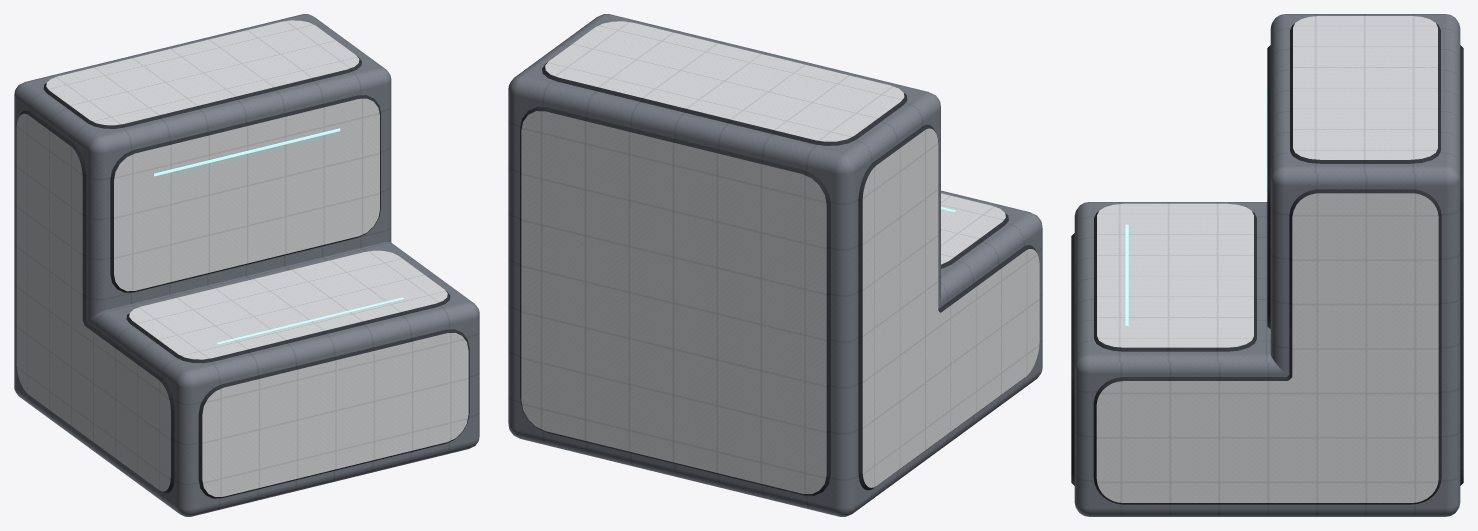
The model's file is R4B_Step.glb.
3 views of the same model, side by side, from view 1: azimuth 30°, elevation 25°; view 2: azimuth 150°, elevation 25°; view 3: azimuth 270°, elevation 25° (orthographic). The views are drawn at different scales.
Visible parts, largest first — view 1: R4B_Step; view 2: R4B_Step; view 3: R4B_Step.
Part boxes in pixels (x1,y1,x2,y2): R4B_Step: [14, 14, 479, 516]; R4B_Step: [508, 14, 1042, 516]; R4B_Step: [1071, 14, 1463, 516].
Size of the model in its own units: 0.52 by 0.52 by 0.52.
Materials: 4 (3 with a texture image).
